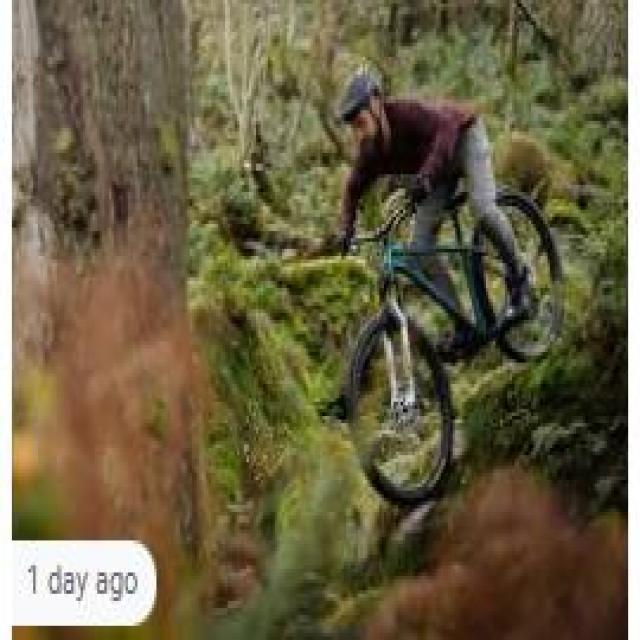bicycle: (340, 182, 554, 506)
